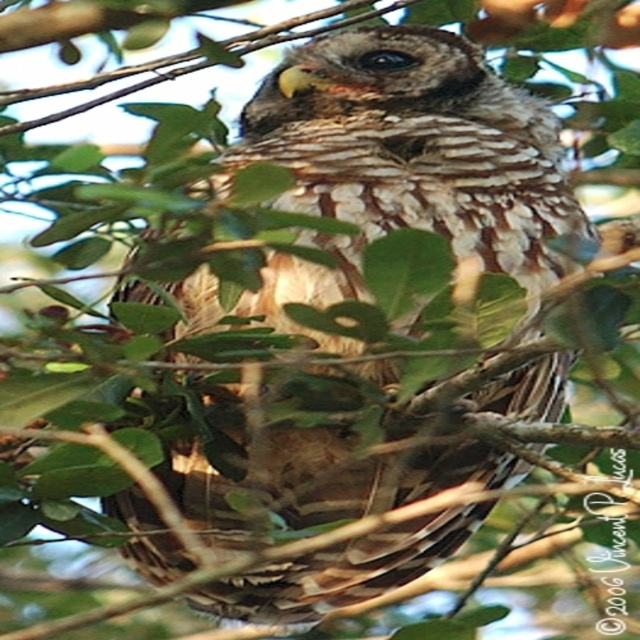Owl: (99, 24, 603, 637)
